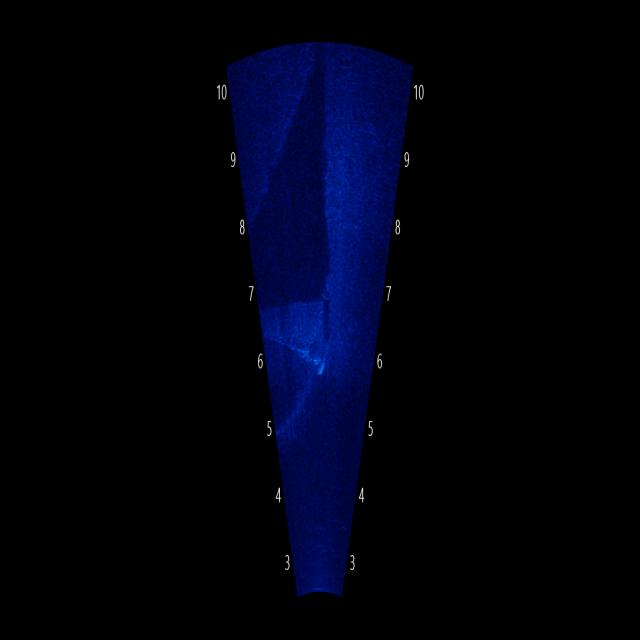triangle: (254, 280, 337, 386)
